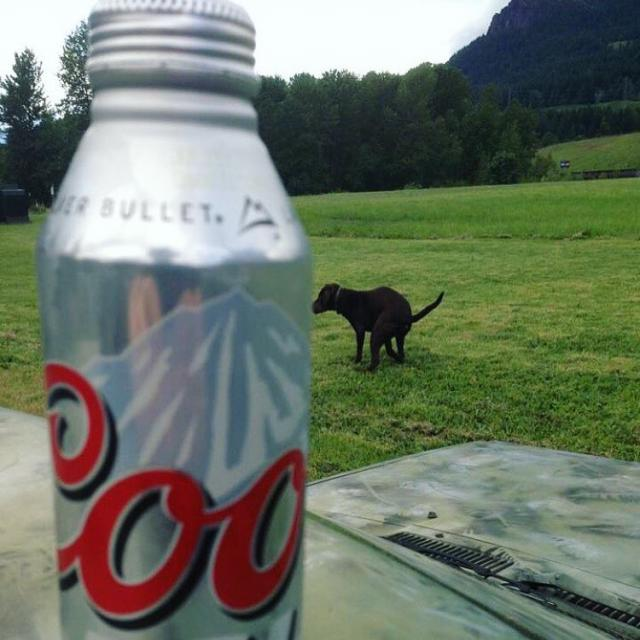squatting: (311, 275, 452, 373)
